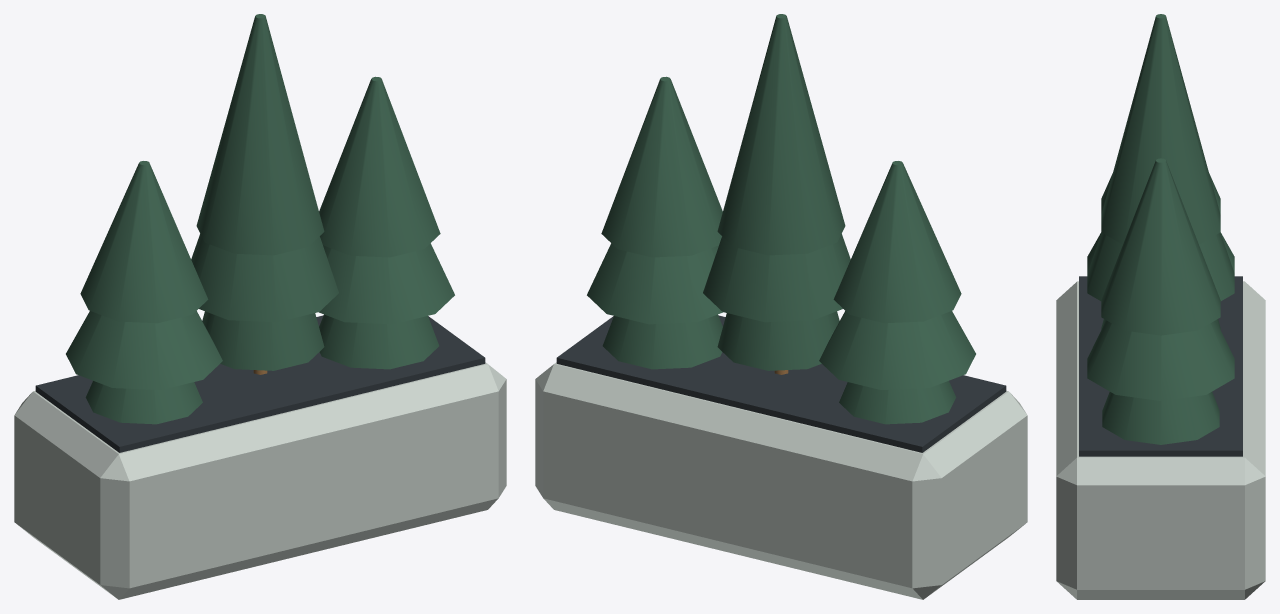
The model's file is planter.lod0.glb.
3 views of the same model, side by side, from view 1: azimuth 30°, elevation 25°; view 2: azimuth 150°, elevation 25°; view 3: azimuth 270°, elevation 25° (orthographic). The views are drawn at different scales.
Parts seen in each view (by area): view 1: structure; view 2: structure; view 3: structure.
Boxes of the visible parts, x1,y1,x2,y2 form: structure: [14, 14, 506, 599]; structure: [535, 14, 1027, 599]; structure: [1056, 14, 1265, 599].
Size of the model in its own units: 3.5 by 4.18 by 1.6.
